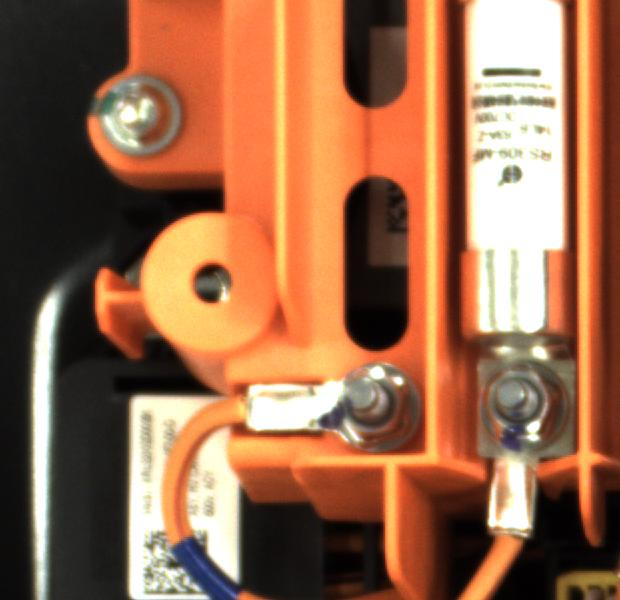screw_m: (94, 71, 202, 162)
screw_s: (326, 354, 423, 450), (475, 353, 572, 447)
